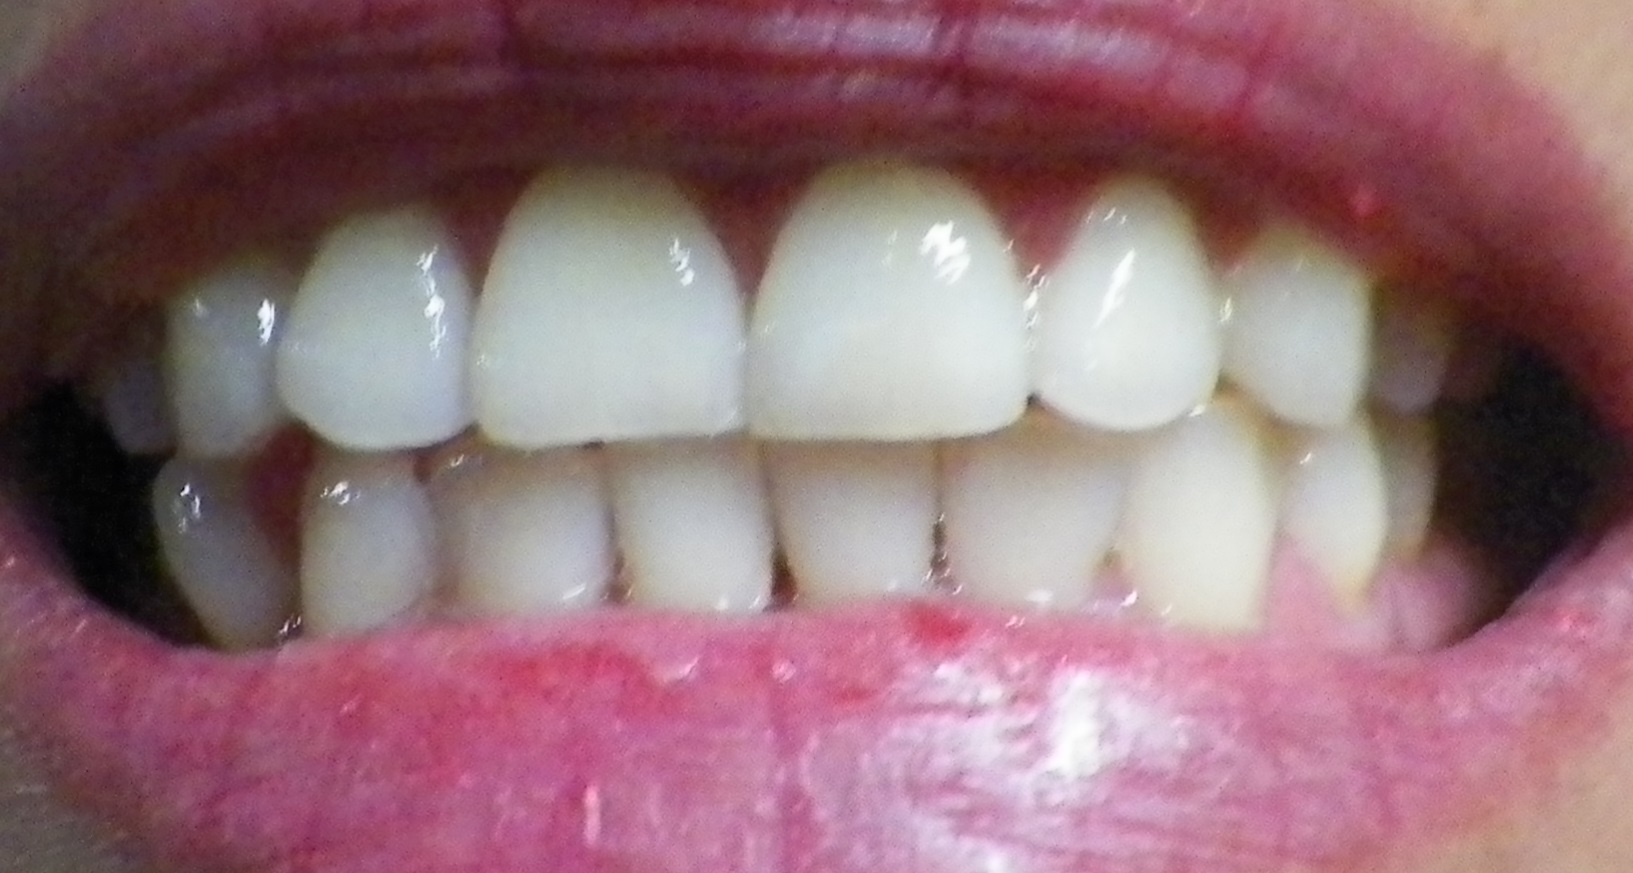boca: (103, 166, 1456, 636)
